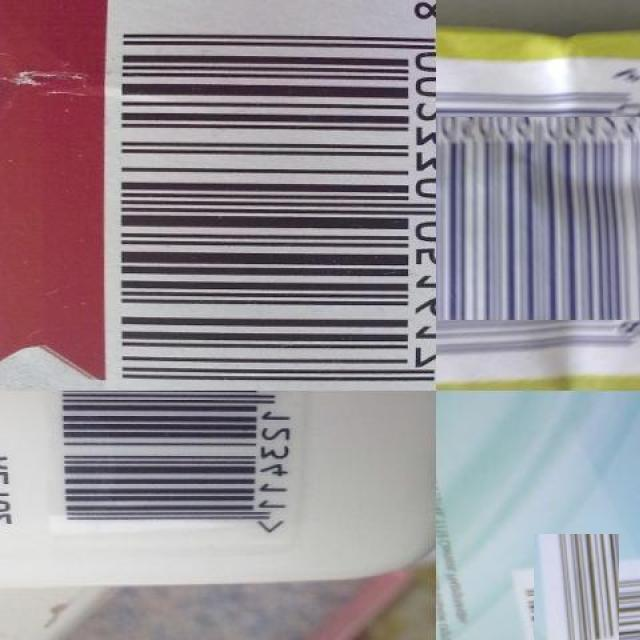Barcode: (100, 0, 436, 391), (407, 87, 640, 351), (48, 391, 299, 548), (523, 545, 630, 640)
